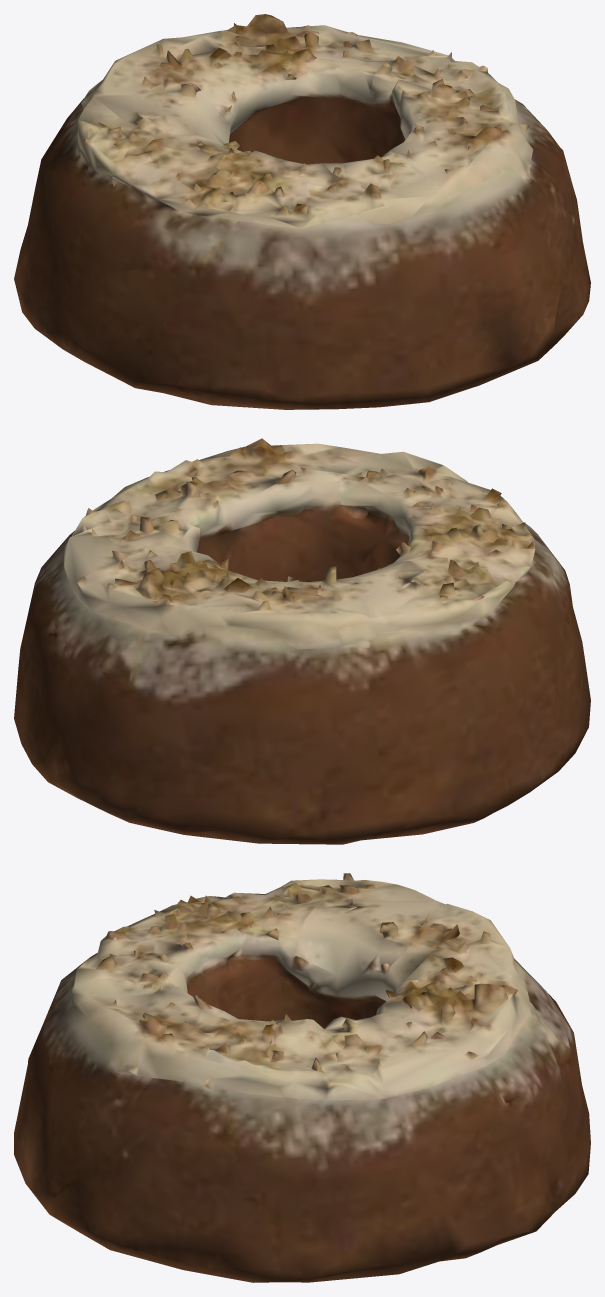
The model's file is cake.glb.
The picture shows the model from 3 angles, top to bottom: view 1: azimuth 30°, elevation 25°; view 2: azimuth 150°, elevation 25°; view 3: azimuth 270°, elevation 25°; orthographic projection. The views are drawn at different scales.
Parts seen in each view (by area): view 1: carrot_cake; view 2: carrot_cake; view 3: carrot_cake.
Boxes of the visible parts, x1,y1,x2,y2 form: carrot_cake: (14, 14, 590, 409); carrot_cake: (14, 438, 590, 844); carrot_cake: (14, 873, 590, 1282).
Size of the model in its own units: 0.2254 by 0.0976 by 0.2254.
Materials: 1 (1 with a texture image).
